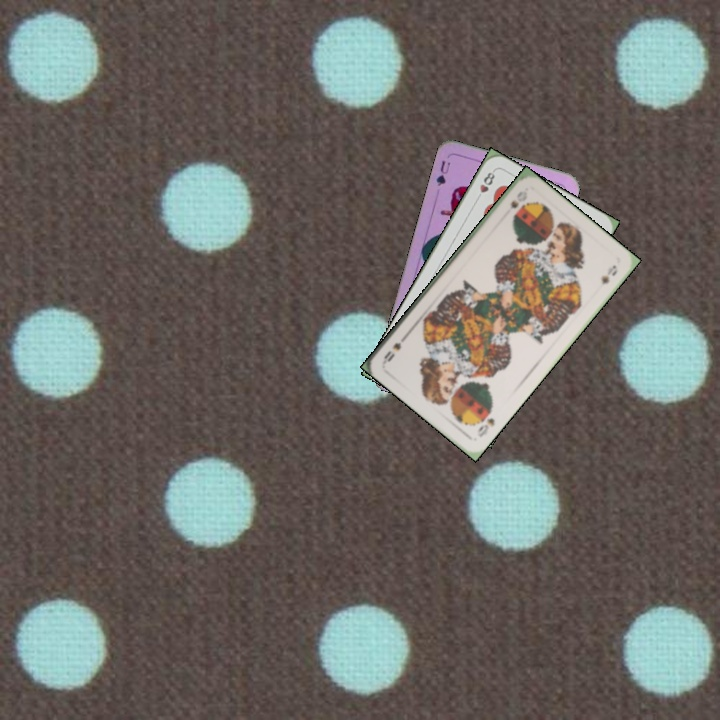GU: (432, 156, 453, 191)
H8: (472, 167, 498, 204)
SO: (473, 406, 497, 440), (506, 187, 530, 211)
